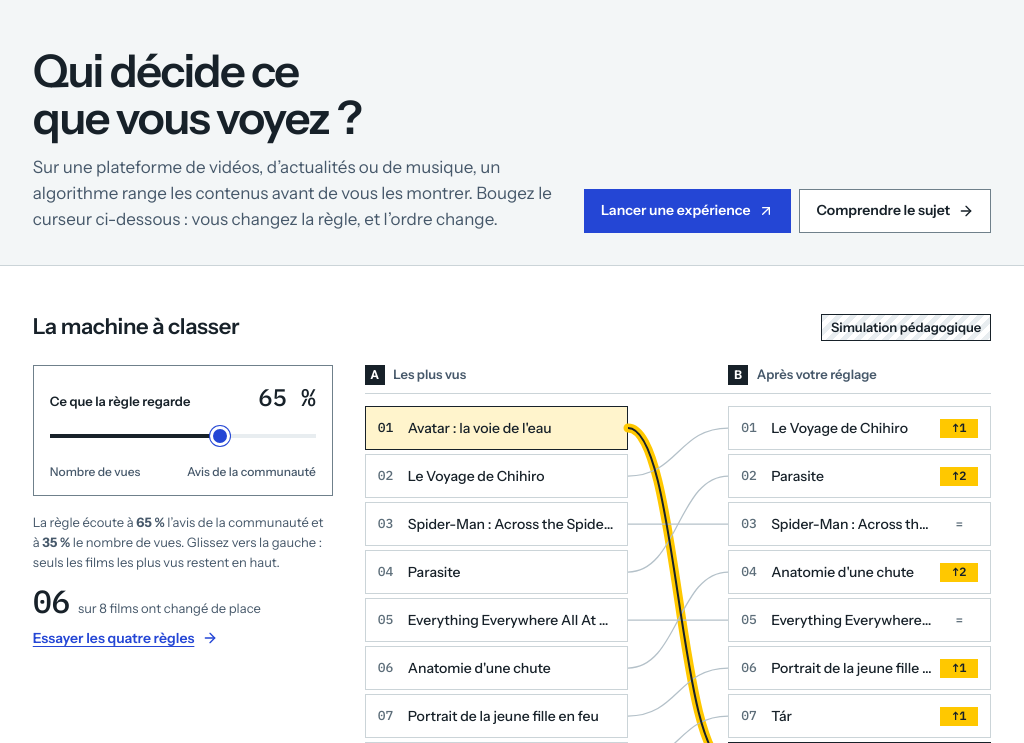
Test: The Ranking Machine — accueil interactif › recalcule le classement et met à jour les positions sans changer le catalogue
Step 1. Set the slider labelled "Ce que la règle regarde" to "0" → (58, 436), box [50, 422, 316, 450]
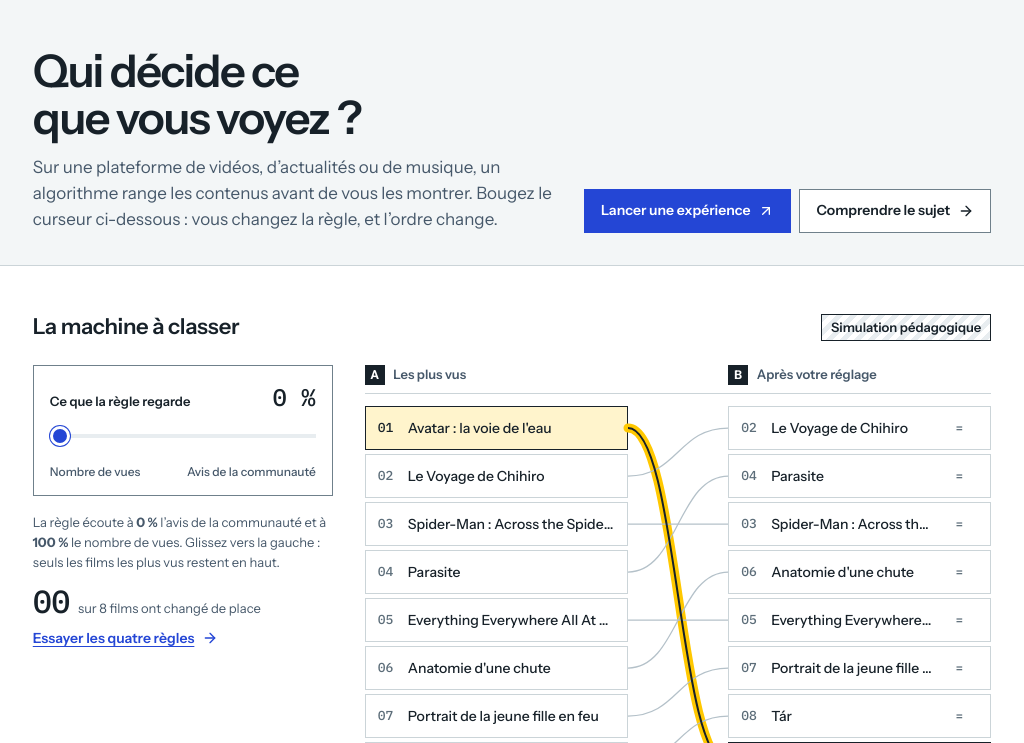
Expected: the element with test id "home-changes" reads "00 sur 8 films ont changé de place", [33, 580, 261, 622]
Step 2. Set the slider labelled "Ce que la règle regarde" to "100" → (308, 436), box [50, 422, 316, 450]
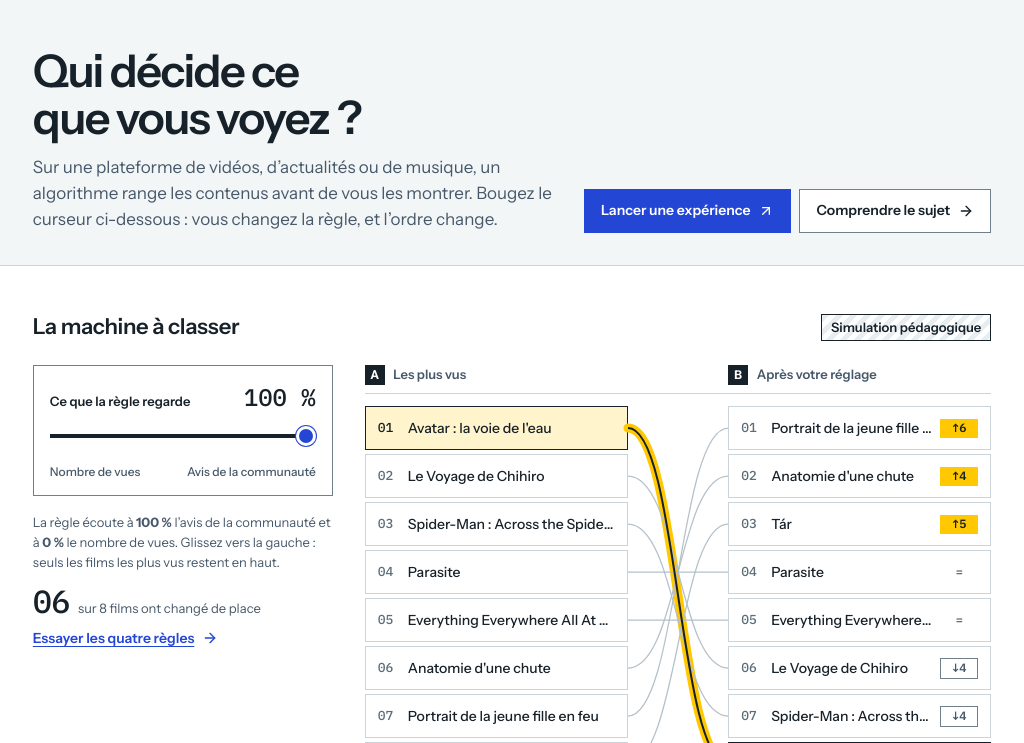
Expected: the element with test id "home-changes" no longer shows "00", [33, 580, 261, 622]
